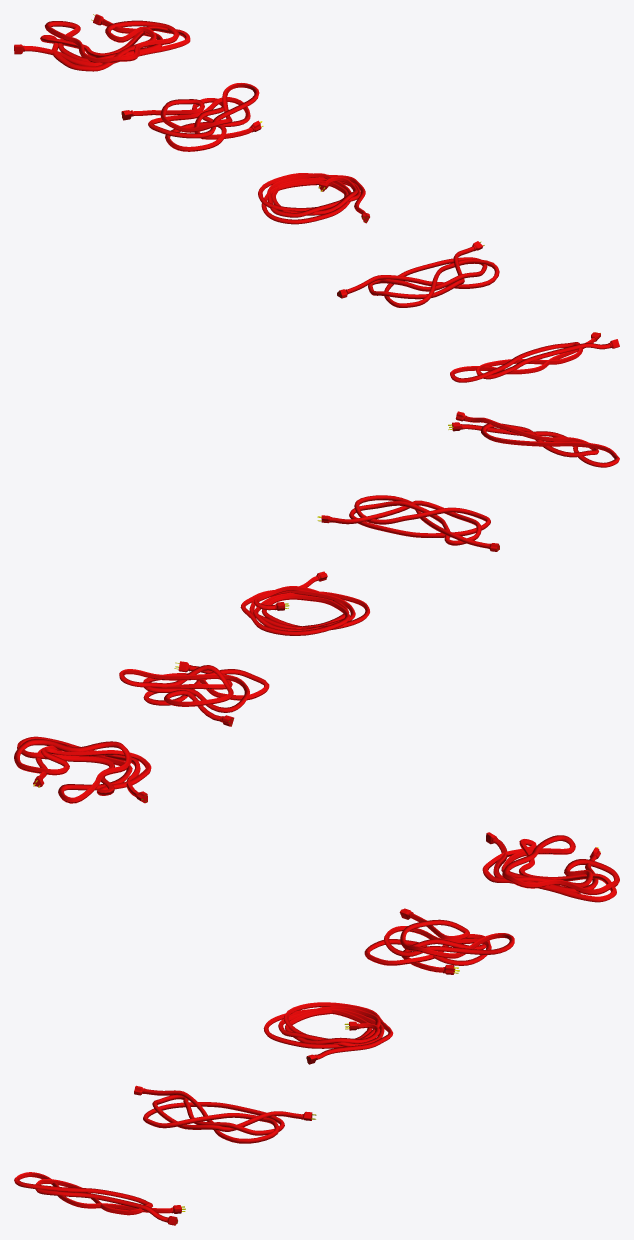
Rendered from power_cords_grp.fbx.
3 renders of one model, top to bottom at view 1: azimuth 30°, elevation 25°; view 2: azimuth 150°, elevation 25°; view 3: azimuth 330°, elevation 25°, orthographic. The views are drawn at different scales.
Parts seen in each view (by area): view 1: power_cord_4, power_cord_3, power_cord_2, power_cord_5, power_cord_1; view 2: power_cord_4, power_cord_3, power_cord_2, power_cord_5, power_cord_1; view 3: power_cord_4, power_cord_3, power_cord_5, power_cord_2, power_cord_1.
Part boxes in pixels (box(x1,y1,x2,y2)): power_cord_4: box(14, 14, 190, 71); power_cord_3: box(121, 83, 263, 151); power_cord_2: box(337, 241, 499, 307); power_cord_5: box(258, 173, 369, 224); power_cord_1: box(450, 332, 619, 382); power_cord_4: box(14, 736, 151, 803); power_cord_3: box(119, 661, 269, 726); power_cord_2: box(317, 495, 499, 551); power_cord_5: box(240, 571, 369, 635); power_cord_1: box(448, 411, 619, 467); power_cord_4: box(482, 832, 619, 902); power_cord_3: box(364, 908, 514, 974); power_cord_5: box(263, 1002, 393, 1064); power_cord_2: box(134, 1085, 316, 1143); power_cord_1: box(14, 1172, 185, 1225).
Size of the model in its own units: 84.53 by 8.11 by 439.
